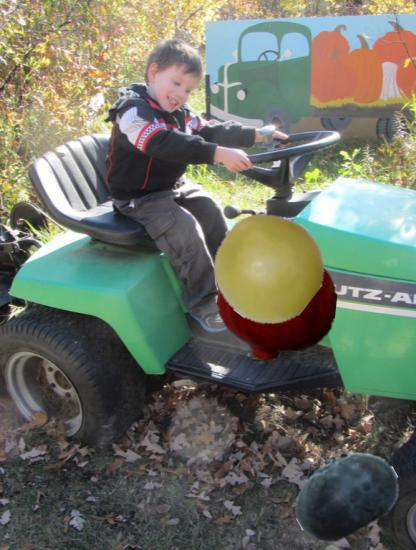Blueberry: (290, 439, 400, 549)
Grape: (213, 213, 323, 323)
Pomegranate: (217, 245, 337, 365)
